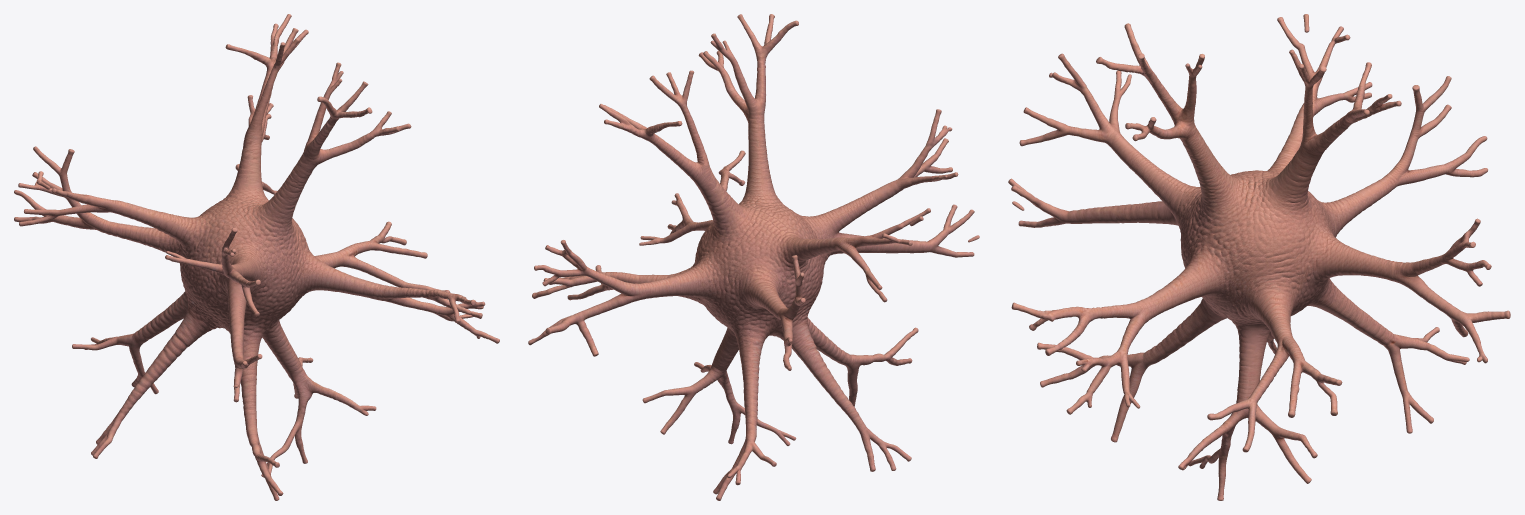
Rendered from neuron_purkinje.glb.
The picture shows the model from 3 angles, left to right: view 1: azimuth 30°, elevation 25°; view 2: azimuth 150°, elevation 25°; view 3: azimuth 270°, elevation 25°; orthographic projection. The views are drawn at different scales.
Visible parts, largest first — view 1: tripo_node_074631d8-a546-48be-b73a-a7f0a3a92186; view 2: tripo_node_074631d8-a546-48be-b73a-a7f0a3a92186; view 3: tripo_node_074631d8-a546-48be-b73a-a7f0a3a92186.
Boxes of the visible parts, box(x1,y1,x2,y2) form: tripo_node_074631d8-a546-48be-b73a-a7f0a3a92186: box(14, 14, 499, 500); tripo_node_074631d8-a546-48be-b73a-a7f0a3a92186: box(528, 14, 979, 500); tripo_node_074631d8-a546-48be-b73a-a7f0a3a92186: box(1008, 14, 1510, 500).
Bounding box in the file's own units: 0.9717 × 0.963 × 0.9474.
Materials: 1 (1 with a texture image).
